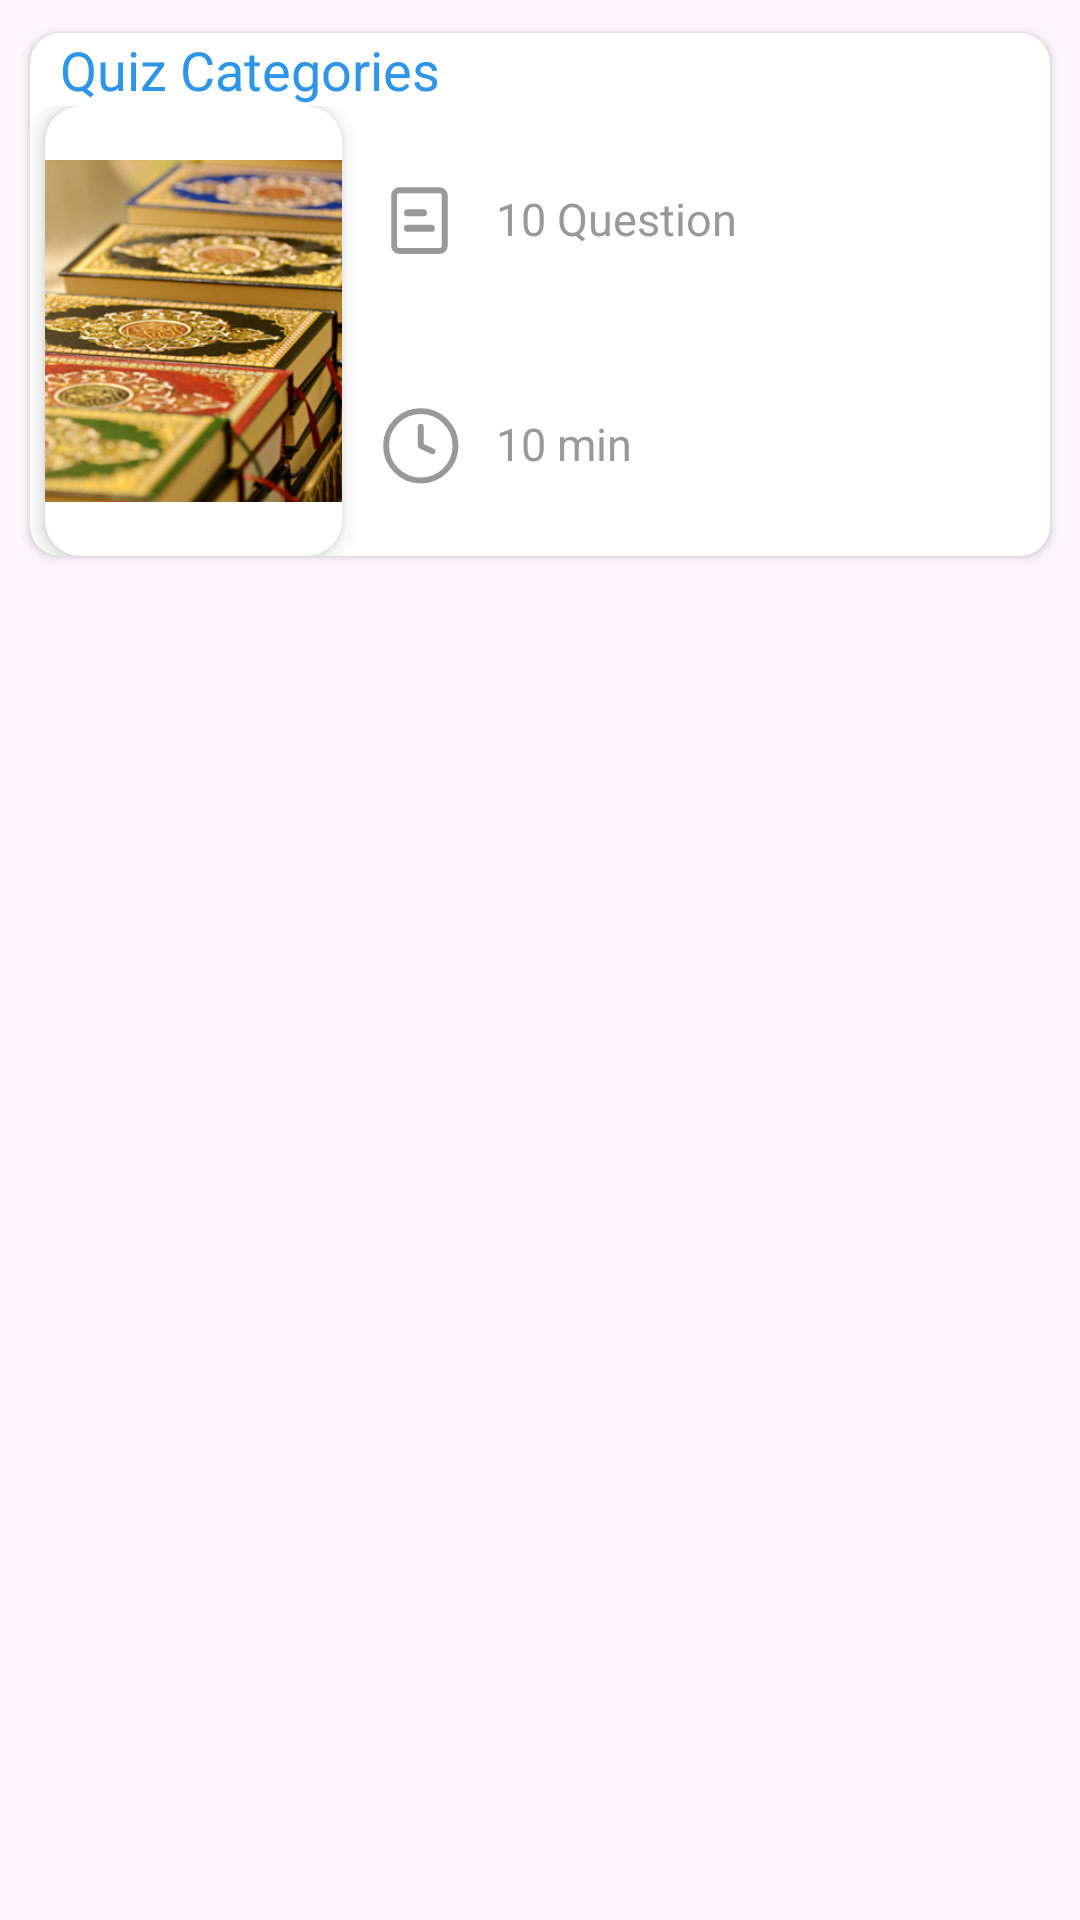

Where icons sit on this 1080w x 1920h app screen, as [left=x1, top=y1, right=x2, bottom=y2]:
time: [left=383, top=408, right=459, bottom=484]
